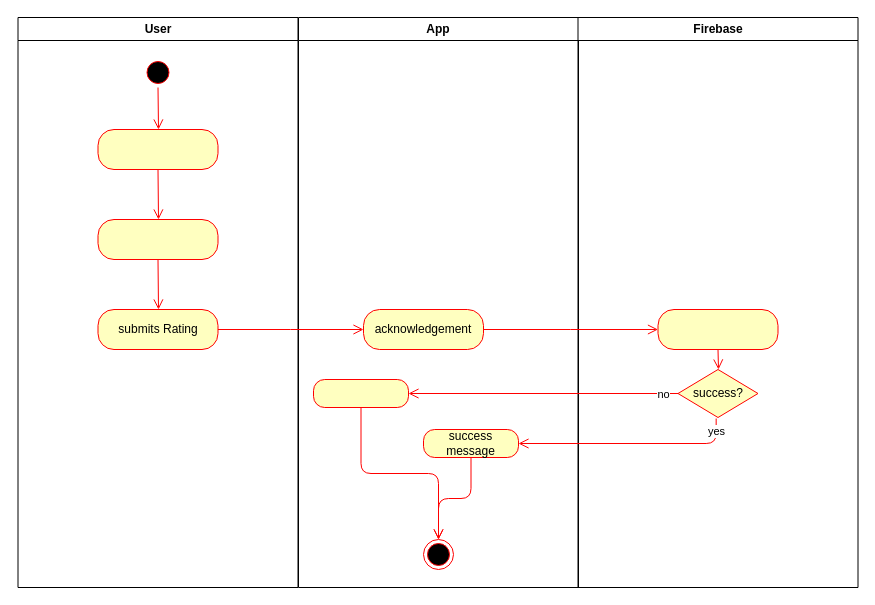
Some shapes in this 875 by 605 pixel diagram are drawn without their labels. The shapes that lost their labels are listed below. From the top down, each one's centre as x and y in pixels, then its label:
At [157,149]: "opens product page".
At [157,239]: "enter Rating".
At [717,329]: "saves Rating".
At [360,393]: "error message".
